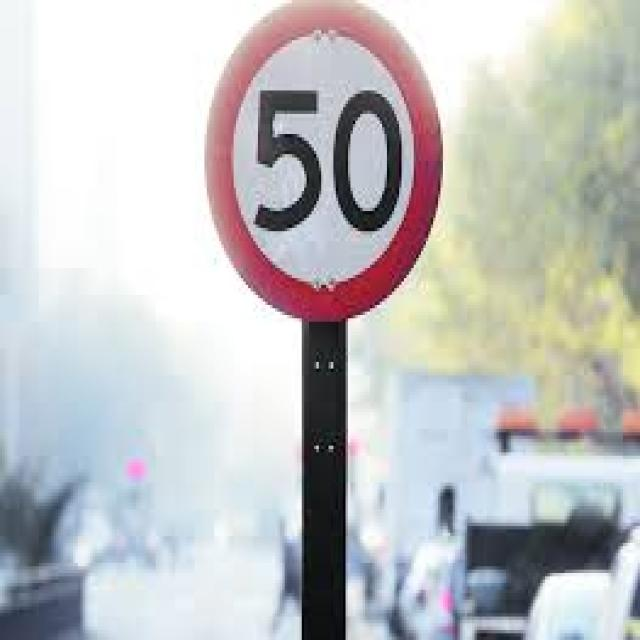Speed limit 50: (203, 1, 446, 326)
